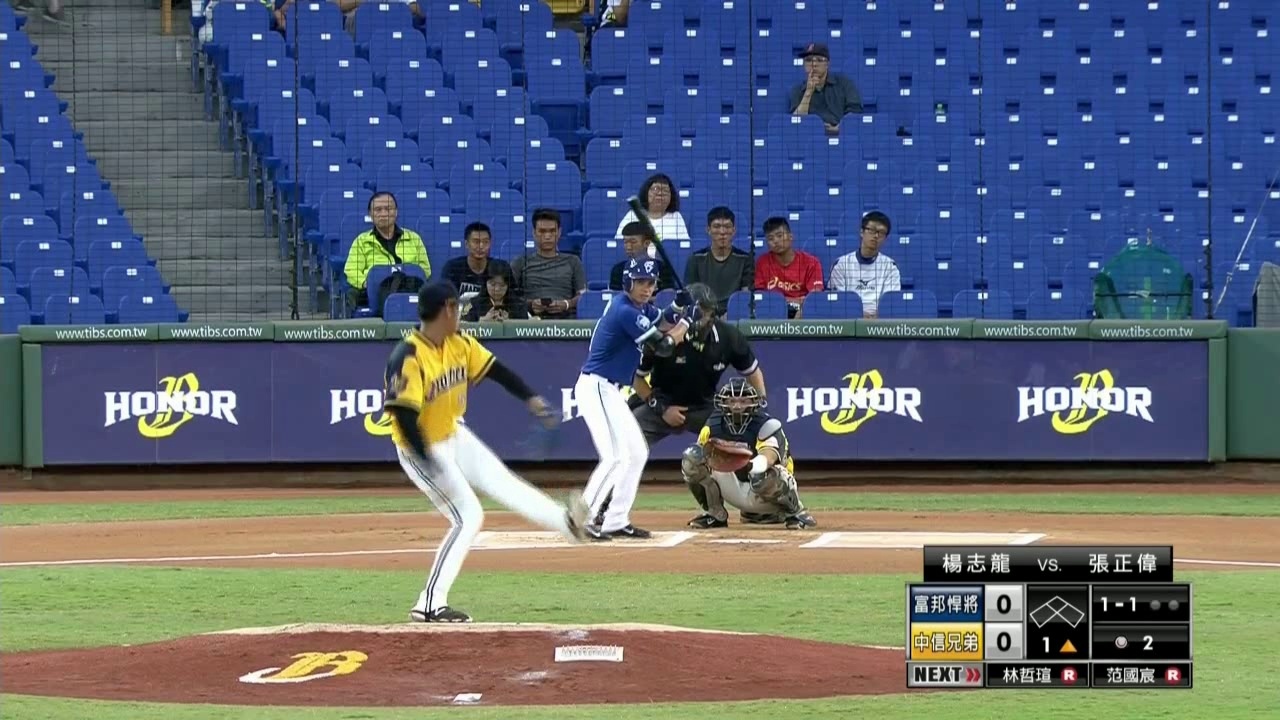ball: (437, 499, 462, 515)
base: (1027, 594, 1087, 628)
bat: (624, 194, 692, 301)
out: (1147, 597, 1180, 612)
score1: (985, 585, 1021, 620)
score2: (985, 623, 1023, 658)
session: (1037, 634, 1080, 653)
strikeball: (1097, 593, 1140, 615)
total: (1105, 630, 1159, 654)
